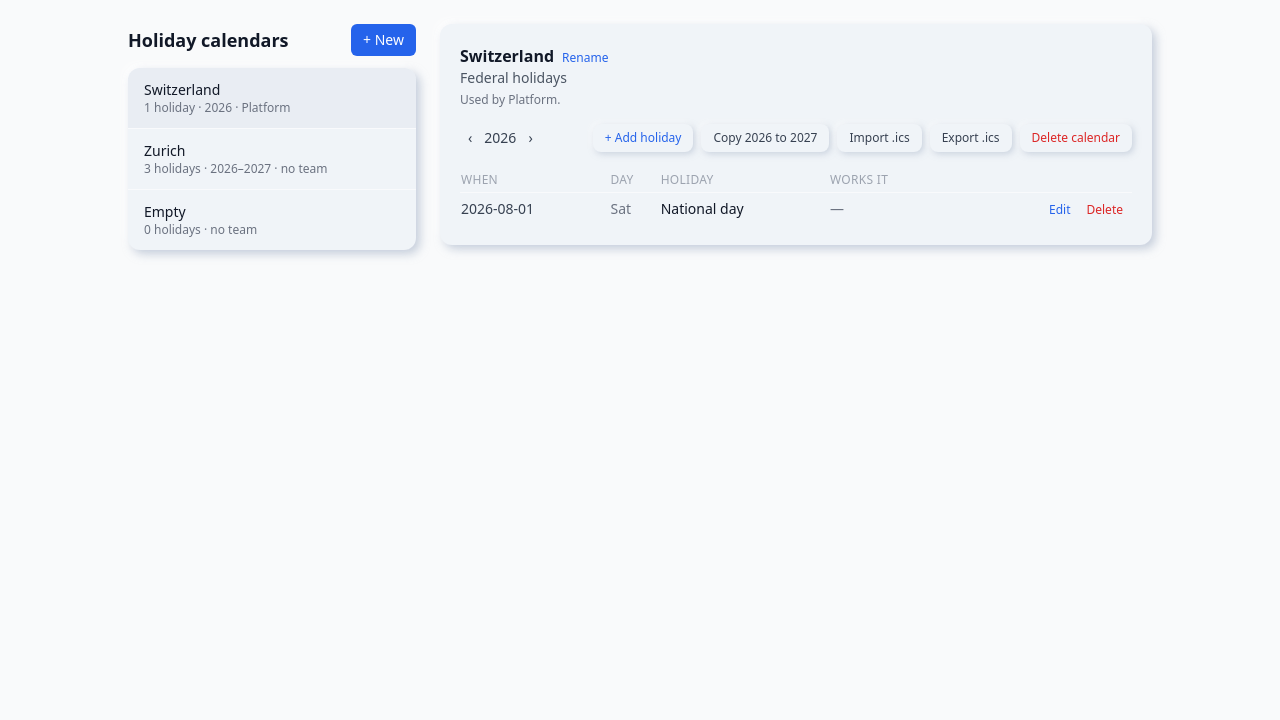
it: CalendarsPage — editing a calendar › says so when a holiday cannot be deleted, and Cancel deletes nothing
Click the button with aria-label "Delete National day": click(1105, 210) [1078,202,1131,218]
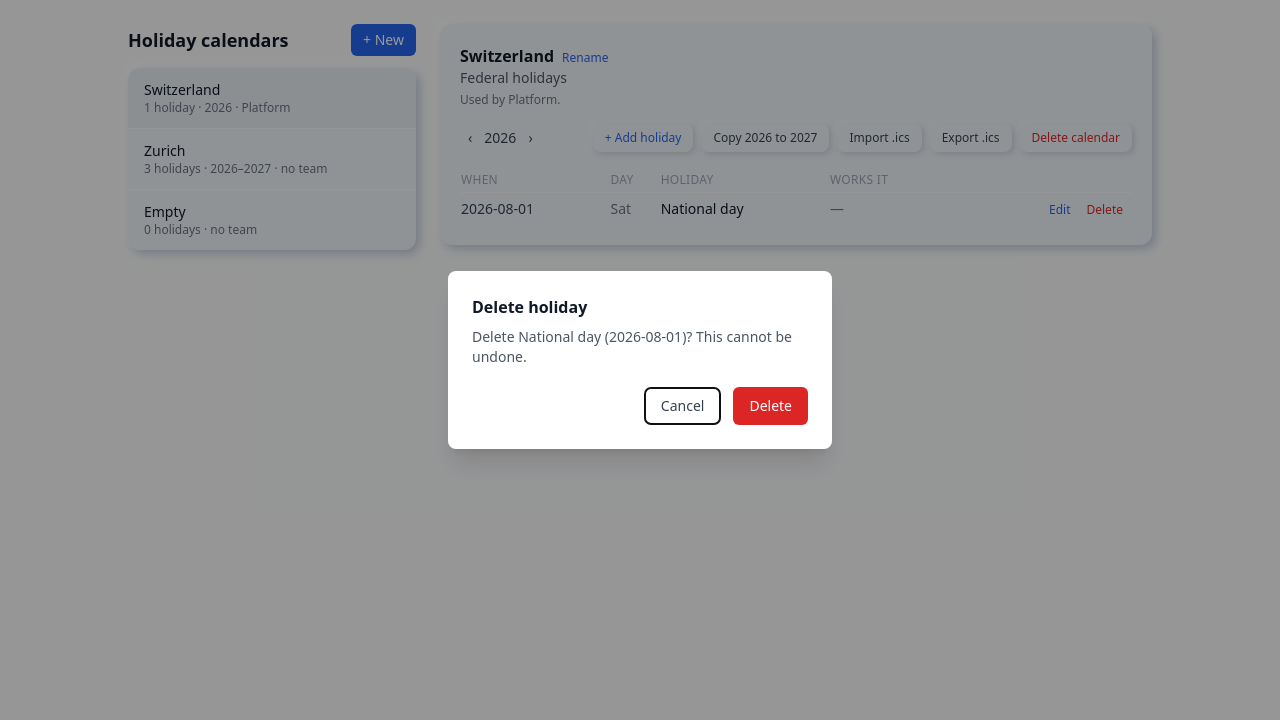
Result: the dialog "Delete holiday" shows "Delete National day (2026-08-01)? This cannot be undone." at [472,327,792,366]
Click the button "Cancel": click(683, 406) [644,387,721,425]
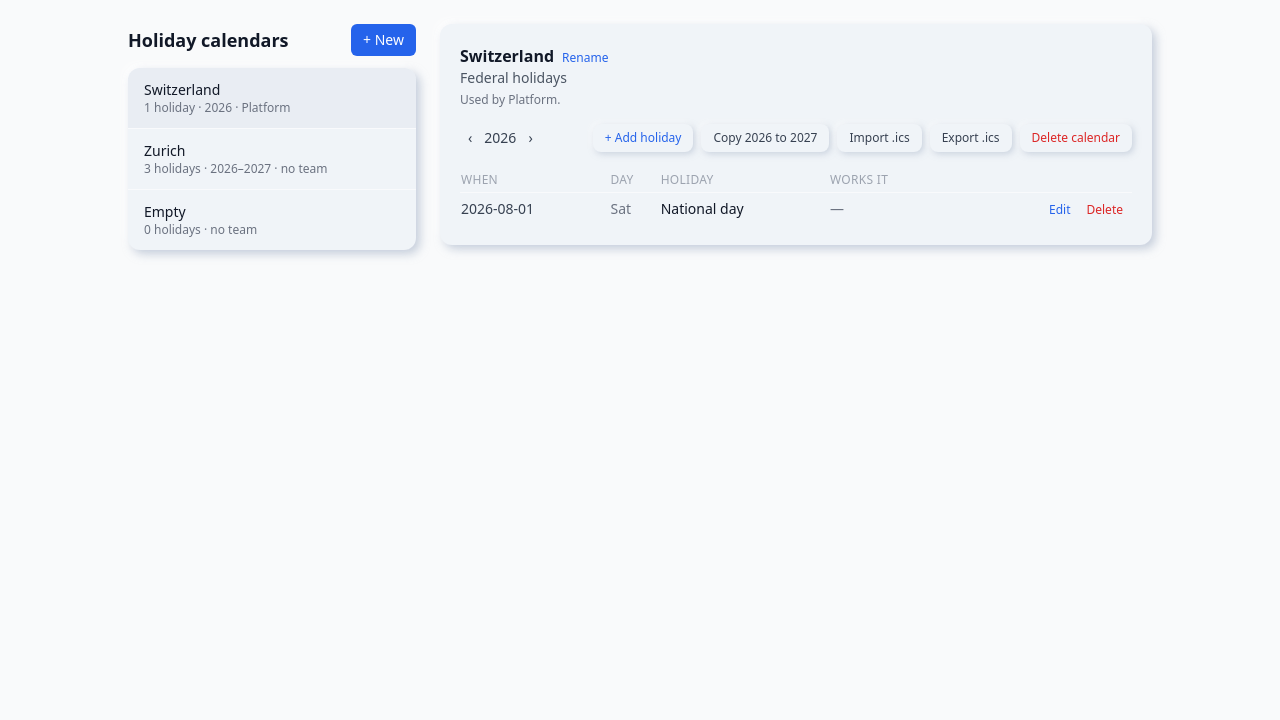
Result: the dialog is gone
Click the button with aria-label "Delete National day": click(1105, 210) [1078,202,1131,218]
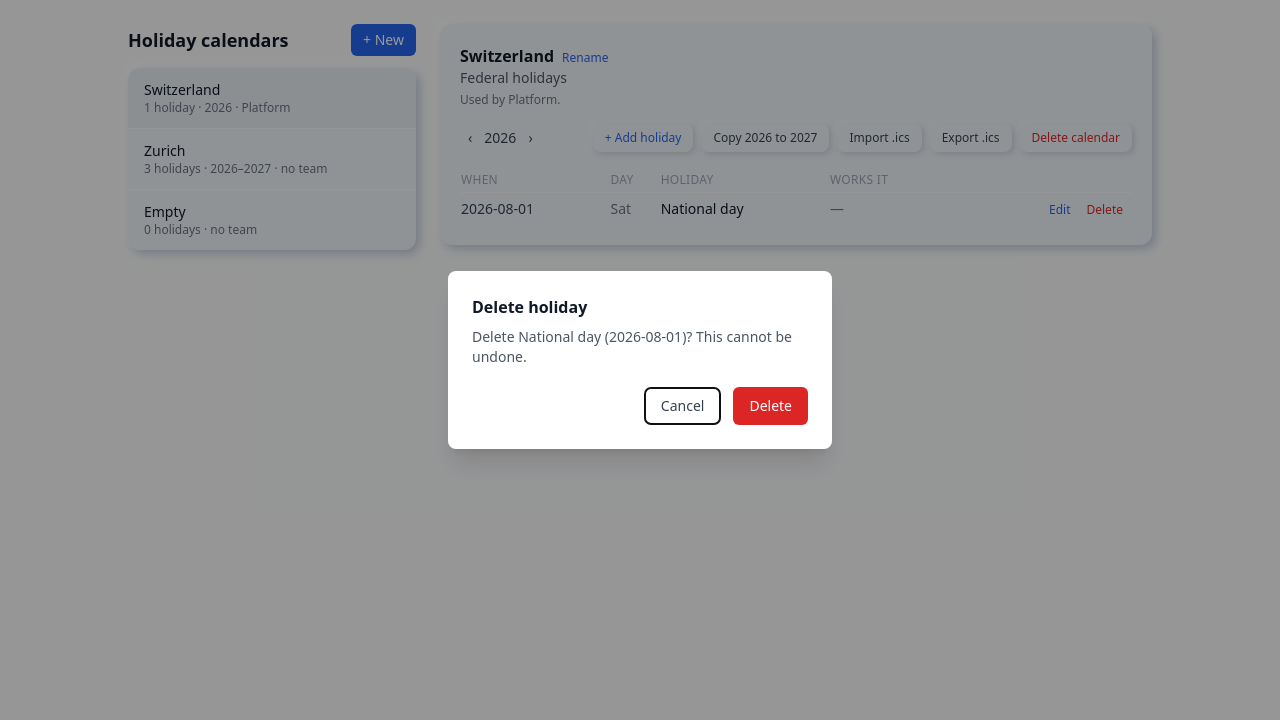
Click the button "Delete": click(771, 406) [733,387,808,425]
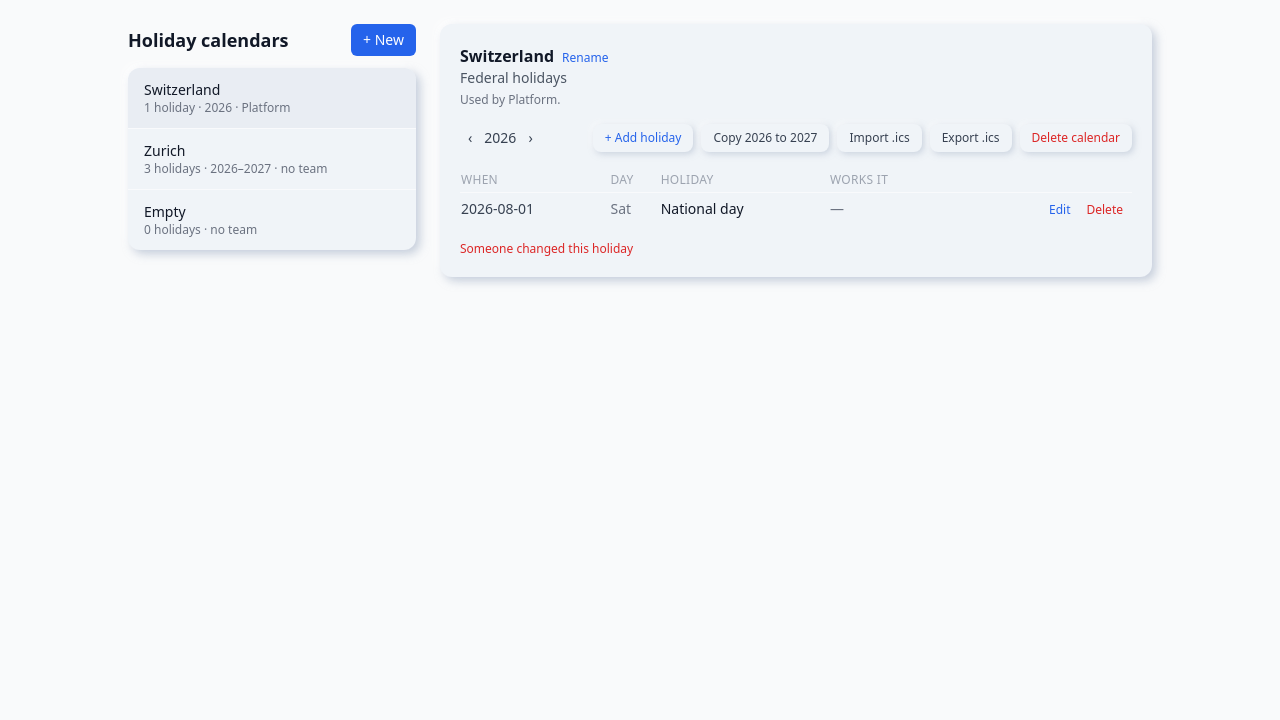
Result: the message reads "Someone changed this holiday" at [460,240,633,257]
Result: the dialog is gone
